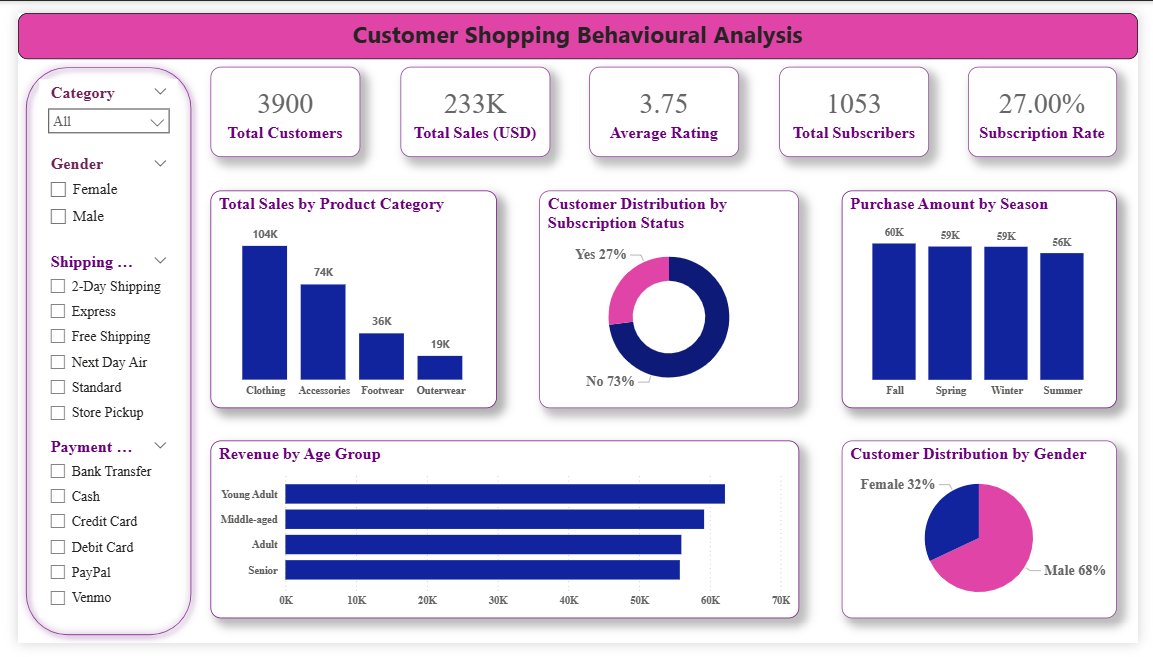

Layout of this report page (visuals, bound fields, positions):
{"tool":"powerbi","page":{"name":"Page 1","canvas":[1280,720],"ordinal":0},"visuals":[{"type":"shape","box":[0,52.9,207.1,667.1],"z":0},{"type":"textbox","box":[0,0,1280.3,52.1],"z":1000},{"type":"card","fields":{"Values":["cleaned_data.Total Customers"]},"box":[220,61.4,171.4,102.9],"z":2000},{"type":"card","fields":{"Values":["cleaned_data.Total Sales"]},"box":[436.4,61.4,171.4,102.9],"z":3000},{"type":"card","fields":{"Values":["cleaned_data.Average Rating"]},"box":[652.9,61.4,171.4,102.9],"z":4000},{"type":"card","fields":{"Values":["cleaned_data.Total Subscribed Customers"]},"box":[869.3,61.4,171.4,102.9],"z":5000},{"type":"card","fields":{"Values":["cleaned_data.Subscription Rate"]},"box":[1085.7,61.4,170,102.9],"z":6000},{"type":"columnChart","title":"Total Sales by Product Category","fields":{"Category":["cleaned_data.category"],"Y":["Sum(cleaned_data.purchase_amount)"]},"box":[220,202.9,327.1,248.6],"z":7000},{"type":"pieChart","title":"Customer Distribution by Gender","fields":{"Y":["Count(cleaned_data.customer_id)"],"Category":["cleaned_data.gender"]},"box":[941.4,488.6,314.3,202.9],"z":8000},{"type":"columnChart","title":"Purchase Amount by Season","fields":{"Y":["Sum(cleaned_data.purchase_amount)"],"Category":["cleaned_data.season"]},"box":[941.4,202.9,314.3,248.6],"z":9000},{"type":"donutChart","title":"Customer Distribution by Subscription Status","fields":{"Category":["cleaned_data.subscription_status"],"Y":["CountNonNull(cleaned_data.customer_id)"]},"box":[595.7,202.1,297.1,248.6],"z":10000},{"type":"clusteredBarChart","title":"Revenue by Age Group","fields":{"Category":["cleaned_data.age_group"],"Y":["Sum(cleaned_data.purchase_amount)"]},"box":[220,488.6,672.9,202.9],"z":11000},{"type":"slicer","title":"Category","fields":{"Values":["cleaned_data.category"]},"box":[24.4,75.7,158.6,72.9],"z":12000},{"type":"slicer","title":"Gender","fields":{"Values":["cleaned_data.gender"]},"box":[24.4,157.1,158.6,102.9],"z":13000},{"type":"slicer","title":"Payment Methid","fields":{"Values":["cleaned_data.payment_method"]},"box":[24.3,480,158.6,211.4],"z":14000},{"type":"slicer","title":"Shipping Type","fields":{"Values":["cleaned_data.shipping_type"]},"box":[24.3,268.6,158.6,211.4],"z":15000}]}

Visuals, with their boxes in screenshot pixels (x1, y1, x2, y2), scaled from the page's 1280x720 canvas onto the 1153x657 screenshot:
shape: Rect(0, 48, 187, 656)
textbox: Rect(0, 0, 1152, 48)
card - cleaned_data.Total Customers: Rect(198, 56, 353, 150)
card - cleaned_data.Total Sales: Rect(393, 56, 547, 150)
card - cleaned_data.Average Rating: Rect(588, 56, 743, 150)
card - cleaned_data.Total Subscribed Customers: Rect(783, 56, 937, 150)
card - cleaned_data.Subscription Rate: Rect(978, 56, 1131, 150)
"Total Sales by Product Category" columnChart: Rect(198, 185, 493, 412)
"Customer Distribution by Gender" pieChart: Rect(848, 446, 1131, 631)
"Purchase Amount by Season" columnChart: Rect(848, 185, 1131, 412)
"Customer Distribution by Subscription Status" donutChart: Rect(537, 184, 804, 411)
"Revenue by Age Group" clusteredBarChart: Rect(198, 446, 804, 631)
"Category" slicer: Rect(22, 69, 165, 136)
"Gender" slicer: Rect(22, 143, 165, 237)
"Payment Methid" slicer: Rect(22, 438, 165, 631)
"Shipping Type" slicer: Rect(22, 245, 165, 438)
